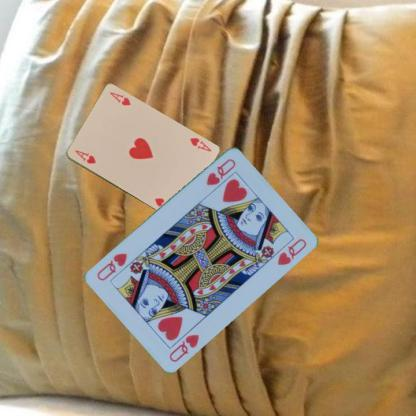Ah: (187, 135, 213, 153), (72, 148, 97, 166)
Qh: (166, 330, 200, 363), (203, 156, 237, 186)
